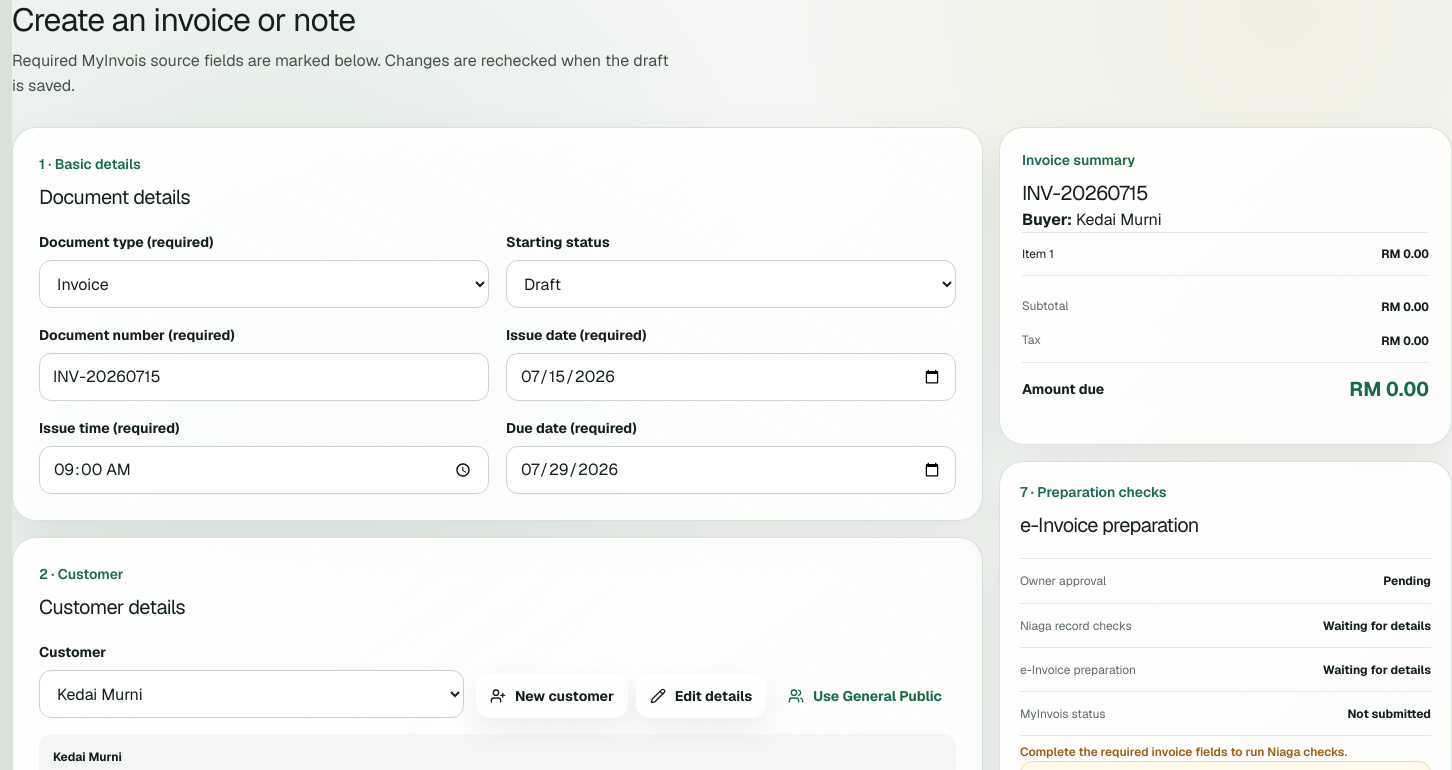
Test case: Session 7 invoice builder › supports a controlled General Public buyer
Click the button "Use General Public".
click(865, 696)  # box [774,674,956,718]
(page scrolled)
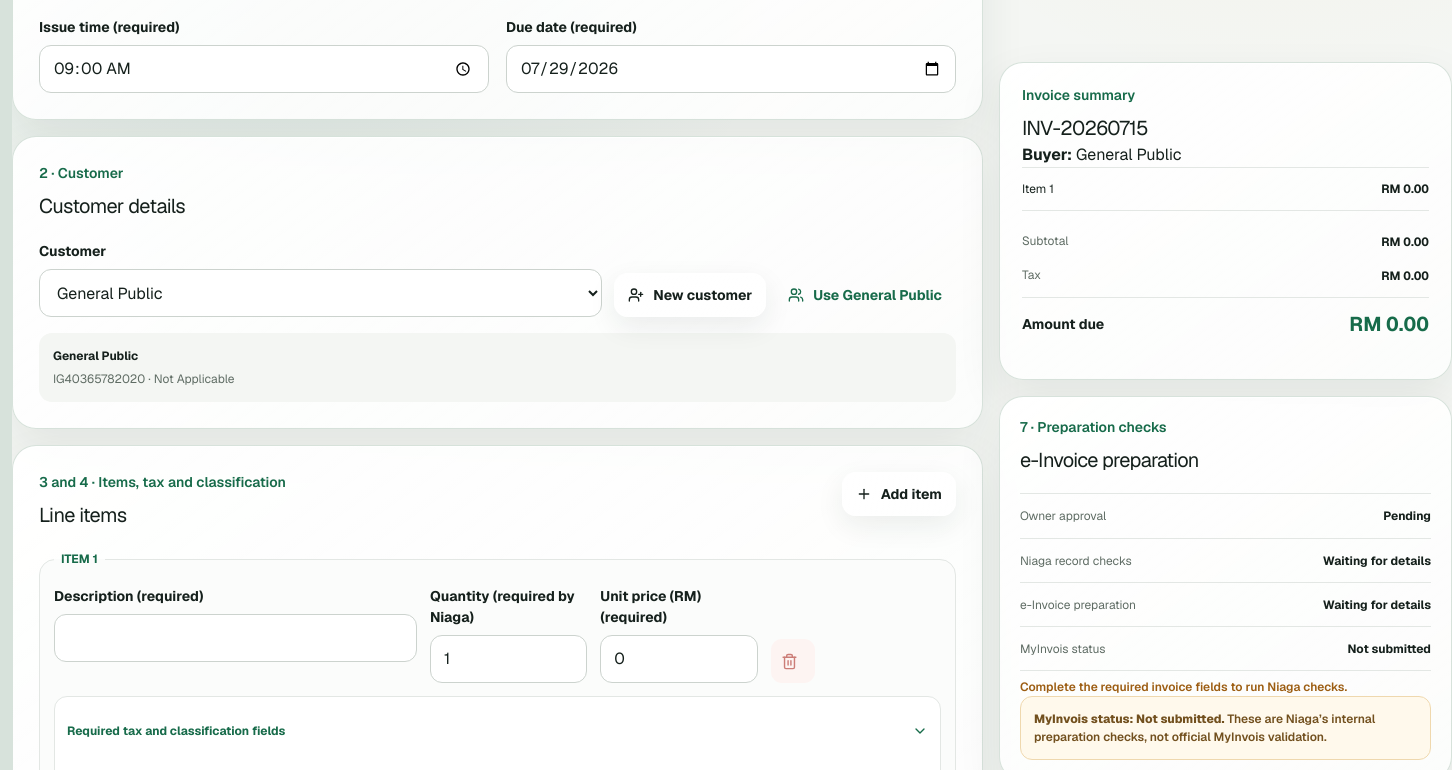
Expected: the text "IG40365782020 · Not Applicable" is shown, [53,371,235,387]
Now the dropdown labelled "Customer" shows "General Public", box [39,269,602,317]
